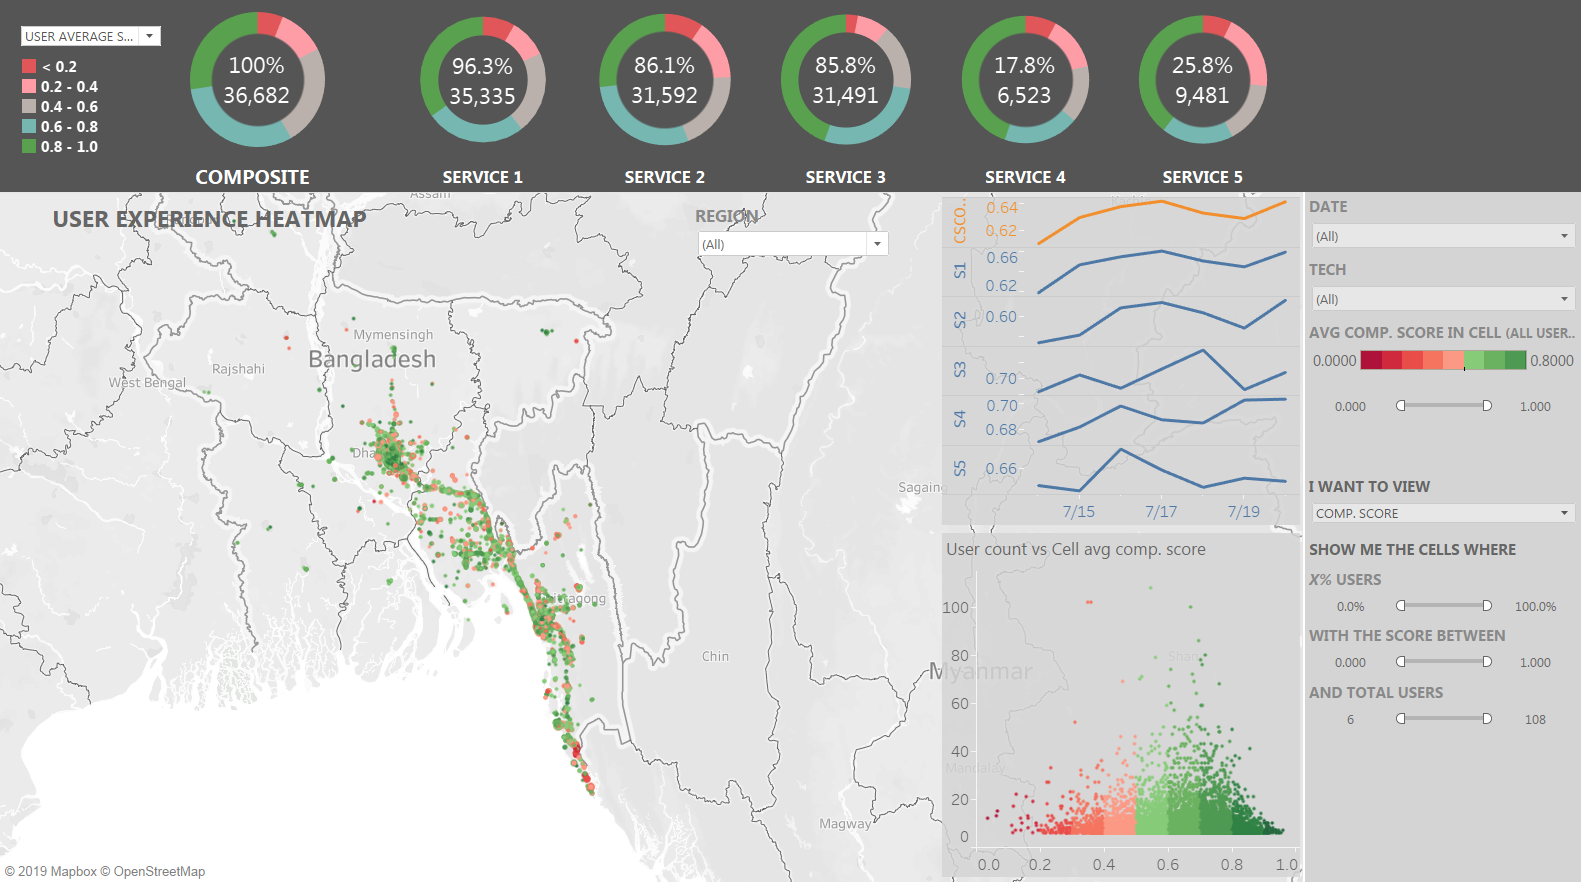

Layout of this report page (visuals, bound fields, positions):
{"tool":"tableau","page":{"name":"DASHBOARD","canvas":[1600,900],"ordinal":0},"visuals":[{"type":"blank","box":[8,8,164,161]},{"type":"worksheet","title":"COMPSCORE","mark":"Automatic","rows":["Number of Records","Number of Records"],"box":[172,8,189.3,161]},{"type":"blank","box":[361.3,8,38.7,161]},{"type":"worksheet","title":"S1 Score","mark":"Automatic","rows":["Number of Records","Number of Records"],"box":[400,8,184,161]},{"type":"worksheet","title":"S2 Score","mark":"Automatic","rows":["Number of Records","Number of Records"],"box":[584,8,180,161]},{"type":"worksheet","title":"S3 Score","mark":"Automatic","rows":["Number of Records","Number of Records"],"box":[764,8,182,161]},{"type":"worksheet","title":"S4 Score","mark":"Automatic","rows":["Number of Records","Number of Records"],"box":[946,8,177,161]},{"type":"worksheet","title":"S5 Score","mark":"Automatic","rows":["Number of Records","Number of Records"],"box":[1123,8,178,161]},{"type":"blank","box":[1301,8,291,161]},{"type":"parameter","param":"[Parameters].[streaming_total_delay Parameter]","box":[27,32,146,26]},{"type":"legend","title":"COMPSCORE","param":"[federated.00bsj251p4yp8x1620xlu0ws5367].[none:OVERALL_KEI (bin) (copy):ok]","box":[28,65,140,100]},{"type":"blank","box":[8,169,153.9,32]},{"type":"text","box":[161.9,169,199.1,32]},{"type":"blank","box":[361,169,39,32]},{"type":"text","box":[400,169,184,32]},{"type":"text","box":[584,169,180,32]},{"type":"text","box":[764,169,182,32]},{"type":"text","box":[946,169,177,32]},{"type":"text","box":[1123,169,178,32]},{"type":"worksheet","title":"MAP","mark":"Automatic","rows":["latitude"],"cols":["longitude"],"box":[8,201,1306,691]},{"type":"filter","title":"MAP","param":"[federated.00bsj251p4yp8x1620xlu0ws5367].[none:Date:ok]","box":[1314,201,278,63]},{"type":"worksheet","title":"Service Score Trend","mark":"Automatic","rows":["OVERALL_KEI","KEI_STREAMING","KEI_HTTP","KEI_IM","KEI_OTT_VIDEO","KEI_OTT_VOICE"],"cols":["Date"],"box":[947,202,366,336]},{"type":"text","box":[58,205,324,44]},{"type":"filter","title":"MAP","param":"[federated.00bsj251p4yp8x1620xlu0ws5367].[none:Region:nk]","box":[704,213,197,61]},{"type":"filter","title":"MAP","param":"[federated.00bsj251p4yp8x1620xlu0ws5367].[rat (group)]","box":[1314,264,278,63]},{"type":"legend","title":"MAP","param":"[federated.00bsj251p4yp8x1620xlu0ws5367].[sum:Calculation_1501106066649845777:qk","box":[1314,327,278,71]},{"type":"filter","title":"MAP","param":"[federated.00bsj251p4yp8x1620xlu0ws5367].[none:Calculation_1501106066649845777:q","box":[1314,398,278,83]},{"type":"parameter","param":"[Parameters].[KEI MEASURES (copy)]","box":[1314,481,278,61]},{"type":"worksheet","title":"MAP_TOOL","mark":"Automatic","rows":["msisdn"],"cols":["Calculation_1501106066649845777"],"box":[947,538,366,352]},{"type":"text","box":[1314,542,278,32]},{"type":"filter","title":"MAP","param":"[federated.00bsj251p4yp8x1620xlu0ws5367].[usr:Calculation_1501106066652979218:qk","box":[1314,574,278,56]},{"type":"filter","title":"MAP","param":"[federated.00bsj251p4yp8x1620xlu0ws5367].[none:Calculation_1501106066669404180:q","box":[1314,630,278,57]},{"type":"filter","title":"MAP","param":"[federated.00bsj251p4yp8x1620xlu0ws5367].[none:Calculation_1501106065977278465:q","box":[1314,687,278,57]}]}

Visuals, with their boxes in screenshot pixels (x1, y1, x2, y2), scaled from the page's 1600x900 canvas onto the 1581x882 screenshot:
blank: <region>8, 8, 170, 166</region>
"COMPSCORE" worksheet: <region>170, 8, 357, 166</region>
blank: <region>357, 8, 395, 166</region>
"S1 Score" worksheet: <region>395, 8, 577, 166</region>
"S2 Score" worksheet: <region>577, 8, 755, 166</region>
"S3 Score" worksheet: <region>755, 8, 935, 166</region>
"S4 Score" worksheet: <region>935, 8, 1110, 166</region>
"S5 Score" worksheet: <region>1110, 8, 1286, 166</region>
blank: <region>1286, 8, 1573, 166</region>
parameter: <region>27, 31, 171, 57</region>
"COMPSCORE" legend: <region>28, 64, 166, 162</region>
blank: <region>8, 166, 160, 197</region>
text: <region>160, 166, 357, 197</region>
blank: <region>357, 166, 395, 197</region>
text: <region>395, 166, 577, 197</region>
text: <region>577, 166, 755, 197</region>
text: <region>755, 166, 935, 197</region>
text: <region>935, 166, 1110, 197</region>
text: <region>1110, 166, 1286, 197</region>
"MAP" worksheet: <region>8, 197, 1298, 874</region>
"MAP" filter: <region>1298, 197, 1573, 259</region>
"Service Score Trend" worksheet: <region>936, 198, 1297, 527</region>
text: <region>57, 201, 377, 244</region>
"MAP" filter: <region>696, 209, 890, 269</region>
"MAP" filter: <region>1298, 259, 1573, 320</region>
"MAP" legend: <region>1298, 320, 1573, 390</region>
"MAP" filter: <region>1298, 390, 1573, 471</region>
parameter: <region>1298, 471, 1573, 531</region>
"MAP_TOOL" worksheet: <region>936, 527, 1297, 872</region>
text: <region>1298, 531, 1573, 563</region>
"MAP" filter: <region>1298, 563, 1573, 617</region>
"MAP" filter: <region>1298, 617, 1573, 673</region>
"MAP" filter: <region>1298, 673, 1573, 729</region>
